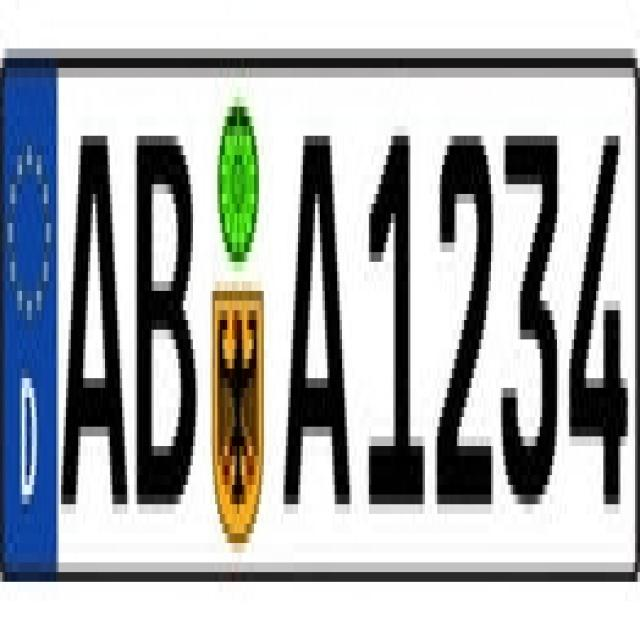Allemagne: (2, 38, 58, 571)
EU: (1, 41, 636, 576)
